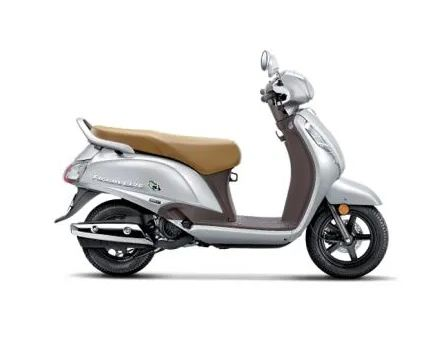bike: (54, 47, 388, 281)
